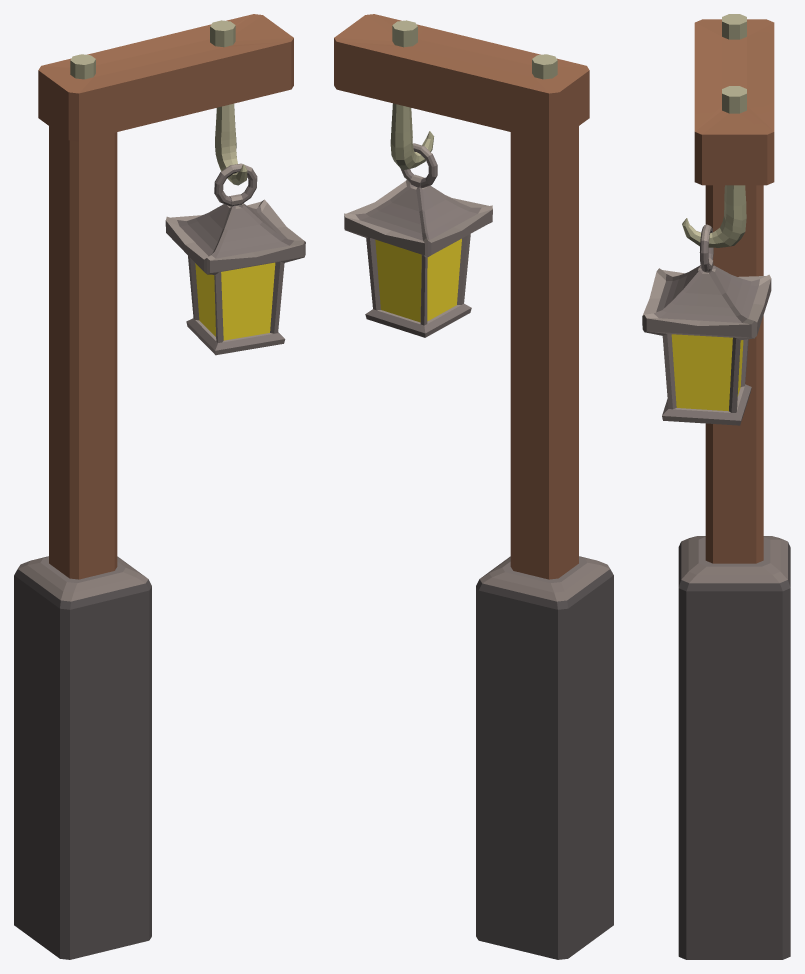
File: Lampadaire.fbx
3 views of the same model, side by side, from view 1: azimuth 30°, elevation 25°; view 2: azimuth 150°, elevation 25°; view 3: azimuth 270°, elevation 25° (orthographic). The views are drawn at different scales.
Visible parts, largest first — view 1: Lampadaire; view 2: Lampadaire; view 3: Lampadaire.
Boxes of the visible parts, x1,y1,x2,y2 form: Lampadaire: (14,14,305,959); Lampadaire: (334,14,613,959); Lampadaire: (642,14,790,959).
Size of the model in its own units: 295 by 1018 by 149.
